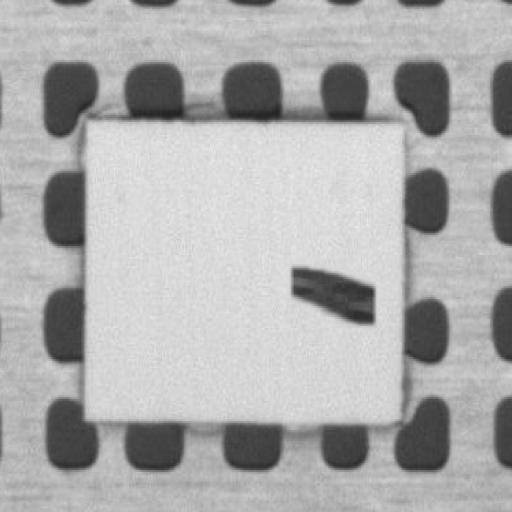DIE_INK: (287, 259, 373, 326)
